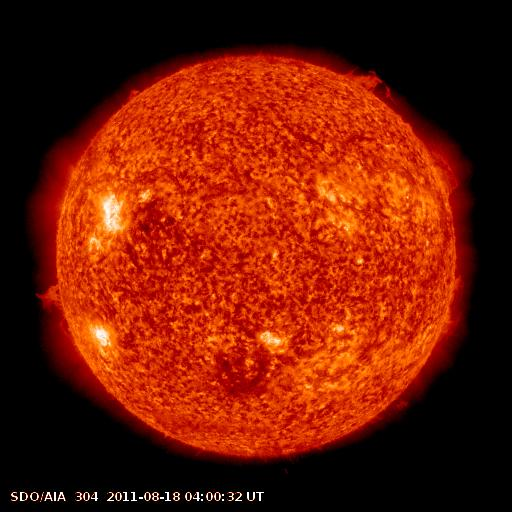prominence: (333, 52, 401, 105), (33, 275, 86, 339), (423, 132, 469, 199)
